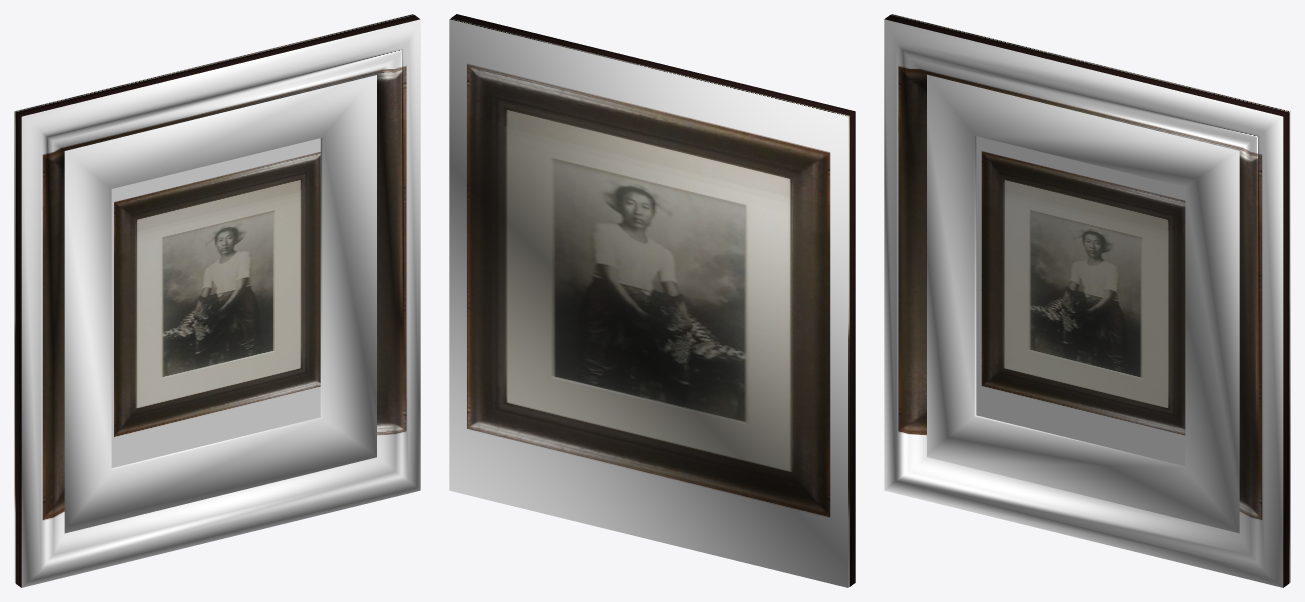
File: Picture.obj
The picture shows the model from 3 angles, left to right: view 1: azimuth 30°, elevation 25°; view 2: azimuth 150°, elevation 25°; view 3: azimuth 330°, elevation 25°; orthographic projection.
Parts seen in each view (by area): view 1: Shape03, Shape02, Plane01, Shape04; view 2: Shape04, Shape03; view 3: Shape03, Shape02, Plane01, Shape04.
Boxes of the visible parts, x1=… form: Shape03: x1=15, y1=15, x2=420, y2=587; Shape02: x1=64, y1=75, x2=376, y2=533; Plane01: x1=111, y1=138, x2=320, y2=467; Shape04: x1=14, y1=14, x2=413, y2=582; Shape04: x1=449, y1=18, x2=849, y2=587; Shape03: x1=451, y1=14, x2=855, y2=586; Shape03: x1=884, y1=15, x2=1289, y2=587; Shape02: x1=927, y1=74, x2=1239, y2=533; Plane01: x1=976, y1=136, x2=1185, y2=466; Shape04: x1=891, y1=14, x2=1290, y2=582.
Bounding box in the file's own units: 14.03 × 15.83 × 0.6672.
Materials: 5 (3 with a texture image).
